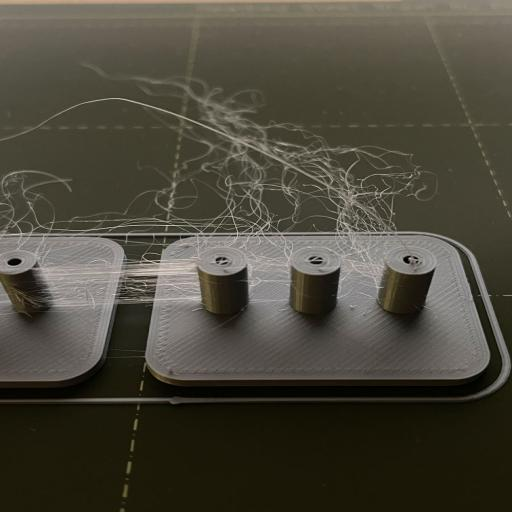stringing: (177, 124, 432, 256), (40, 266, 211, 304)
